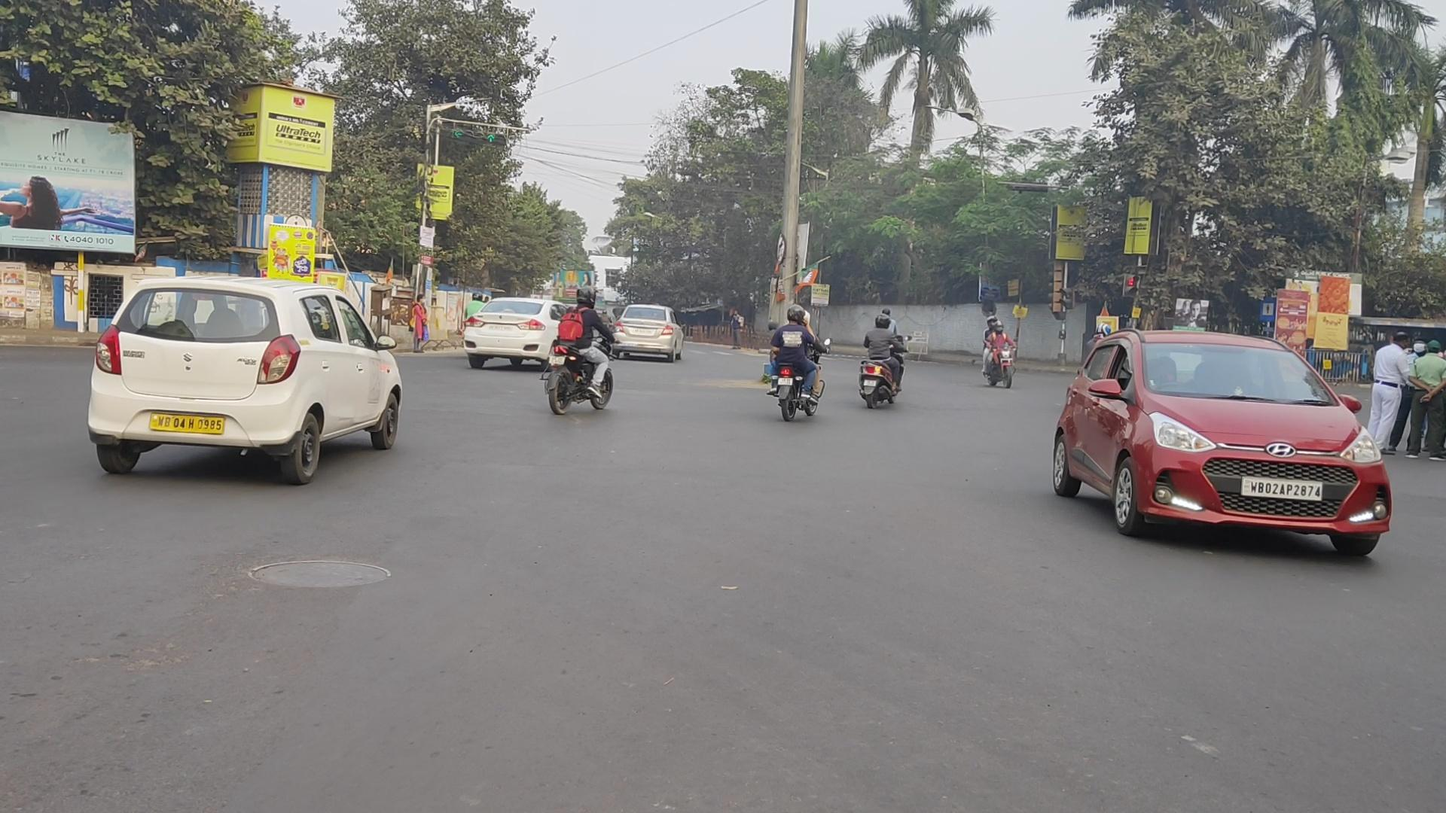bike: (541, 285, 615, 415), (769, 303, 834, 422), (859, 313, 913, 410), (981, 315, 1018, 388)
car: (1053, 329, 1393, 559), (87, 275, 403, 485), (463, 296, 606, 370), (614, 303, 684, 363)
